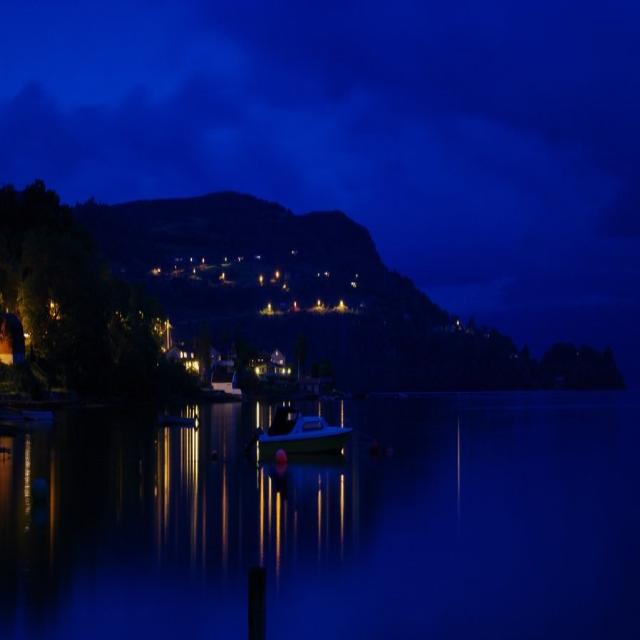Boat: (247, 396, 361, 474)
